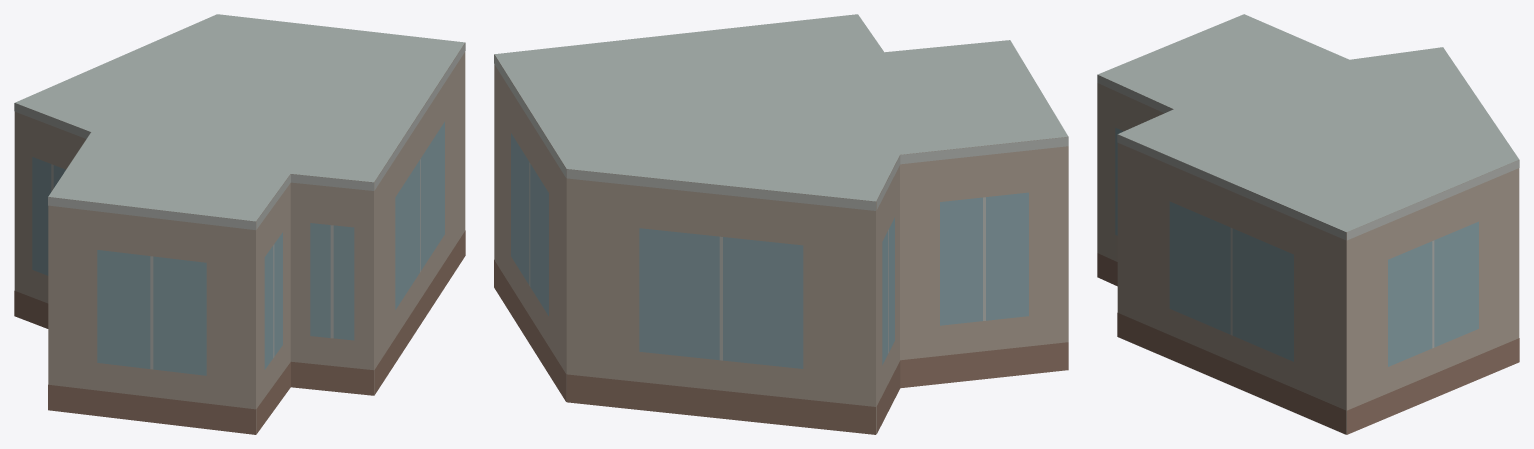
File: survey-upis-32970623.glb
The picture shows the model from 3 angles, left to right: view 1: azimuth 30°, elevation 25°; view 2: azimuth 150°, elevation 25°; view 3: azimuth 270°, elevation 25°; orthographic projection. The views are drawn at different scales.
Visible parts, largest first — view 1: survey-upis-32970623.tmp; view 2: survey-upis-32970623.tmp; view 3: survey-upis-32970623.tmp.
Boxes of the visible parts, x1,y1,x2,y2 form: survey-upis-32970623.tmp: (14,14,465,434); survey-upis-32970623.tmp: (494,14,1068,434); survey-upis-32970623.tmp: (1097,14,1519,434).
Bounding box in the file's own units: 9.02 × 3.9 × 7.37.
